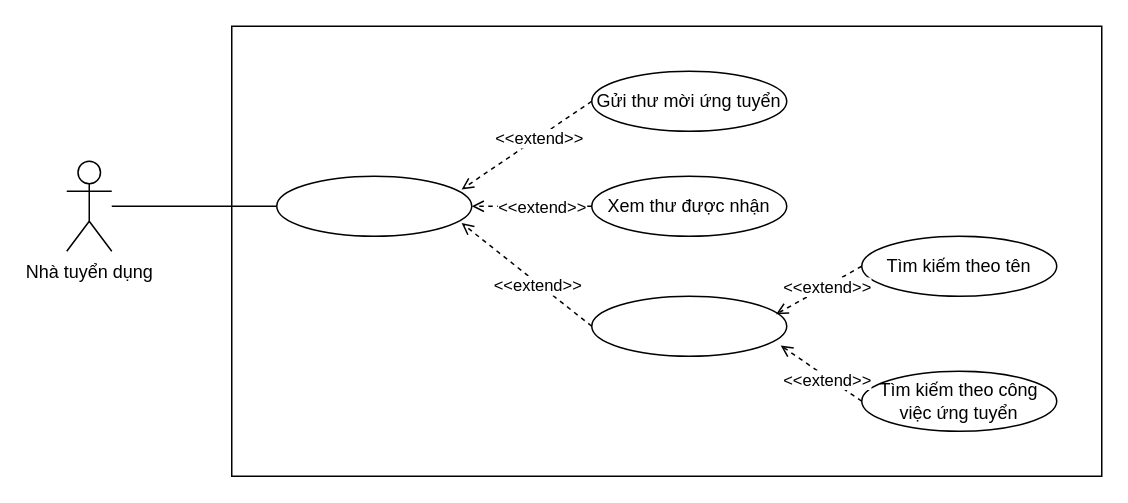
Some shapes in this 1128 by 503 pixel diagram are drawn without their labels. Here are the shapes that lost their labels. From the top down, the centre of each, then its label:
At (373,205): "Quản lý hộp thư".
At (688,325): "Tìm kiếm thư ứng tuyển".
